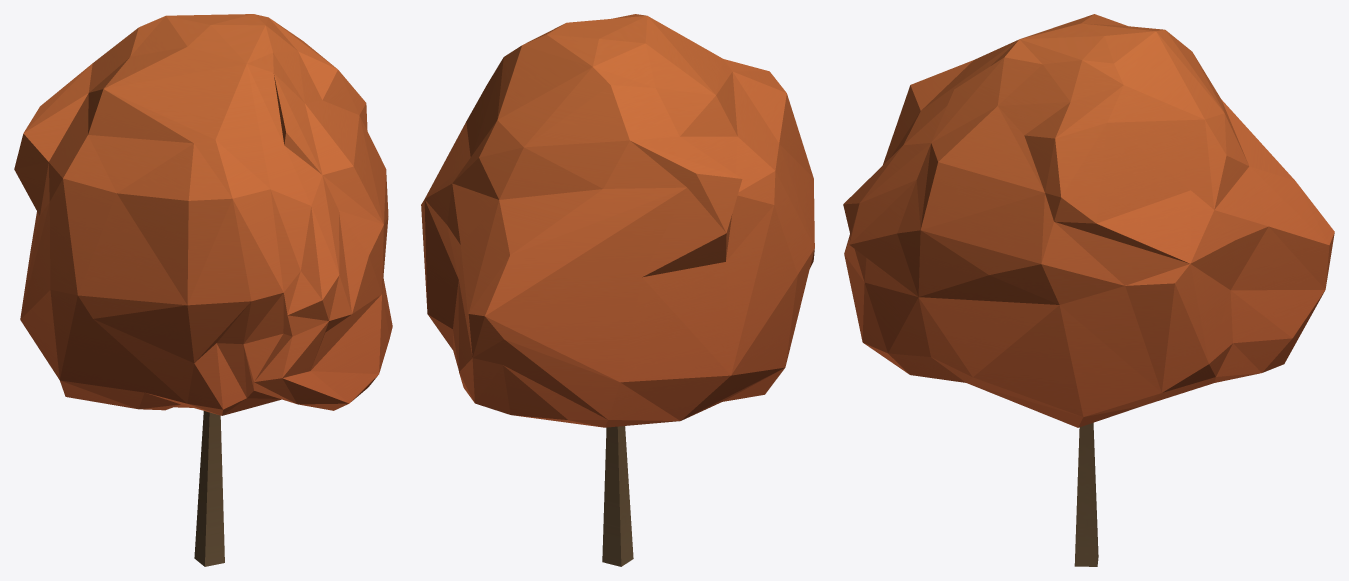
File: extra-large-tree-2.glb
3 renders of one model, left to right at view 1: azimuth 30°, elevation 25°; view 2: azimuth 150°, elevation 25°; view 3: azimuth 270°, elevation 25°, orthographic.
Visible parts, largest first — view 1: extra-large-tree-2; view 2: extra-large-tree-2; view 3: extra-large-tree-2.
Boxes of the visible parts, <box> form: extra-large-tree-2: <box>14,14,392,566</box>; extra-large-tree-2: <box>421,14,814,566</box>; extra-large-tree-2: <box>843,14,1334,566</box>.
Bounding box in the file's own units: 0.426 × 0.6623 × 0.556.
Materials: 1 (1 with a texture image).
